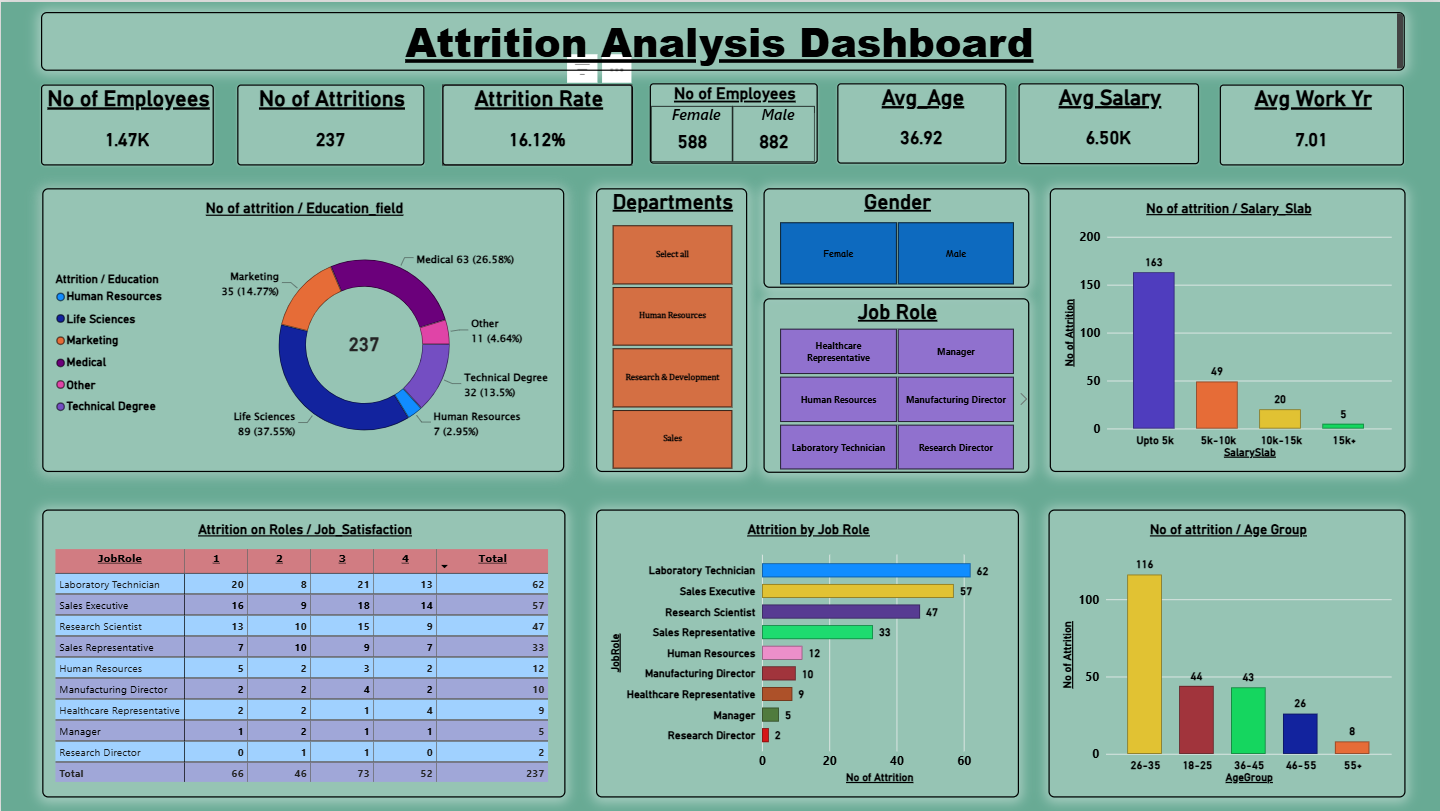

The page's visual inventory and layout, read from the dashboard file:
{"tool":"powerbi","page":{"name":"Page 2","canvas":[1920,1080],"ordinal":0},"visuals":[{"type":"cardVisual","title":"No of Employees","fields":{"Data":["CountNonNull(HR_Analytics.EmpID)"]},"box":[54.1,109.9,230.2,108.1],"z":0},{"type":"cardVisual","title":"No of Employees","fields":{"Data":["CountNonNull(HR_Analytics.EmpID)"],"Rows":["HR_Analytics.Gender"]},"box":[865.5,109.1,223.6,107.3],"z":1000},{"type":"cardVisual","title":"Avg_Age","fields":{"Data":["Avg(HR_Analytics.Age)"]},"box":[1114.5,109.1,225.5,107.3],"z":2000},{"type":"cardVisual","title":"Attrition Rate","fields":{"Data":["HR_Analytics.Attrition_rate"]},"box":[587.8,109.9,254.7,108.1],"z":3000},{"type":"cardVisual","title":"No of Attritions","fields":{"Data":["Sum(HR_Analytics.Attrition_count)"]},"box":[315.7,109.9,249.4,108.1],"z":4000},{"type":"cardVisual","title":"Avg Salary","fields":{"Data":["Avg(HR_Analytics.MonthlyIncome)"]},"box":[1356.4,109.1,240.7,108.1],"z":5000},{"type":"cardVisual","title":"Avg Work Yr","fields":{"Data":["Avg(HR_Analytics.YearsAtCompany)"]},"box":[1625.6,109.9,245.9,108.1],"z":6000},{"type":"donutChart","title":"No of attrition / Education_field","fields":{"Series":["HR_Analytics.EducationField"],"Y":["Sum(HR_Analytics.Attrition_count)"]},"box":[54.5,249.1,696.4,378.2],"z":7000},{"type":"columnChart","title":"No of attrition / Salary_Slab","fields":{"Category":["HR_Analytics.SalarySlab"],"Y":["Sum(HR_Analytics.Attrition_count)"]},"box":[1398.2,249.1,474.5,378.2],"z":8000},{"type":"lineClusteredColumnComboChart","title":"No of attrition / Age Group","fields":{"Category":["HR_Analytics.AgeGroup"],"Y":["Sum(HR_Analytics.Attrition_count)"]},"box":[1396.4,676.4,476.4,383.6],"z":9000},{"type":"pivotTable","title":"Attrition on Roles / Job_Satisfaction","fields":{"Columns":["HR_Analytics.JobSatisfaction"],"Rows":["HR_Analytics.JobRole"],"Values":["Sum(HR_Analytics.Attrition_count)"]},"box":[54.5,676.4,697.7,383.7],"z":10000},{"type":"barChart","title":"Attrition by Job Role","fields":{"Category":["HR_Analytics.JobRole"],"Y":["Sum(HR_Analytics.Attrition_count)"]},"box":[792.7,676.4,563.6,383.6],"z":11000},{"type":"textbox","box":[53.7,13,1818.2,78.2],"z":12000},{"type":"slicer","title":"Departments","fields":{"Values":["HR_Analytics.Department"]},"box":[792.7,249.1,201.8,378.2],"z":13000},{"type":"slicer","title":"Gender","fields":{"Values":["HR_Analytics.Gender"]},"box":[1016.4,249.1,354.5,132.7],"z":14000},{"type":"slicer","title":"Job Role","fields":{"Values":["HR_Analytics.JobRole"]},"box":[1016.4,394.5,354.5,232.7],"z":15000}]}

Visuals, with their boxes in screenshot pixels (x1, y1, x2, y2), scaled from the page's 1920x1080 canvas onto the 1440x811 screenshot:
"No of Employees" cardVisual: {"x1": 41, "y1": 83, "x2": 213, "y2": 164}
"No of Employees" cardVisual: {"x1": 649, "y1": 82, "x2": 817, "y2": 163}
"Avg_Age" cardVisual: {"x1": 836, "y1": 82, "x2": 1005, "y2": 163}
"Attrition Rate" cardVisual: {"x1": 441, "y1": 83, "x2": 632, "y2": 164}
"No of Attritions" cardVisual: {"x1": 237, "y1": 83, "x2": 424, "y2": 164}
"Avg Salary" cardVisual: {"x1": 1017, "y1": 82, "x2": 1198, "y2": 163}
"Avg Work Yr" cardVisual: {"x1": 1219, "y1": 83, "x2": 1404, "y2": 164}
"No of attrition / Education_field" donutChart: {"x1": 41, "y1": 187, "x2": 563, "y2": 471}
"No of attrition / Salary_Slab" columnChart: {"x1": 1049, "y1": 187, "x2": 1405, "y2": 471}
"No of attrition / Age Group" lineClusteredColumnComboChart: {"x1": 1047, "y1": 508, "x2": 1405, "y2": 796}
"Attrition on Roles / Job_Satisfaction" pivotTable: {"x1": 41, "y1": 508, "x2": 564, "y2": 796}
"Attrition by Job Role" barChart: {"x1": 595, "y1": 508, "x2": 1017, "y2": 796}
textbox: {"x1": 40, "y1": 10, "x2": 1404, "y2": 68}
"Departments" slicer: {"x1": 595, "y1": 187, "x2": 746, "y2": 471}
"Gender" slicer: {"x1": 762, "y1": 187, "x2": 1028, "y2": 287}
"Job Role" slicer: {"x1": 762, "y1": 296, "x2": 1028, "y2": 471}
